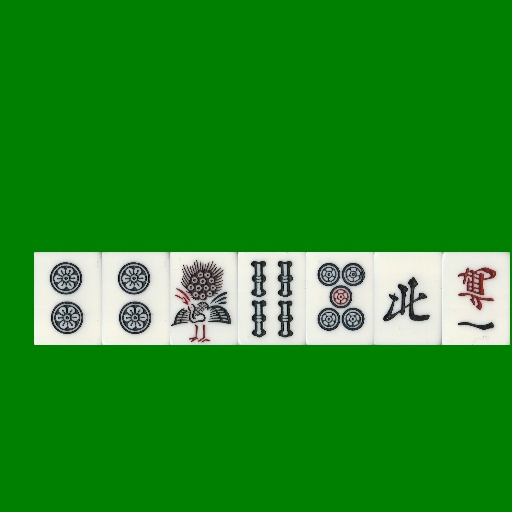1m: (442, 252, 510, 345)
1s: (170, 252, 238, 345)
2p: (34, 252, 102, 345), (102, 252, 170, 345)
4s: (238, 252, 306, 345)
5p: (306, 252, 374, 345)
north: (374, 252, 442, 345)
